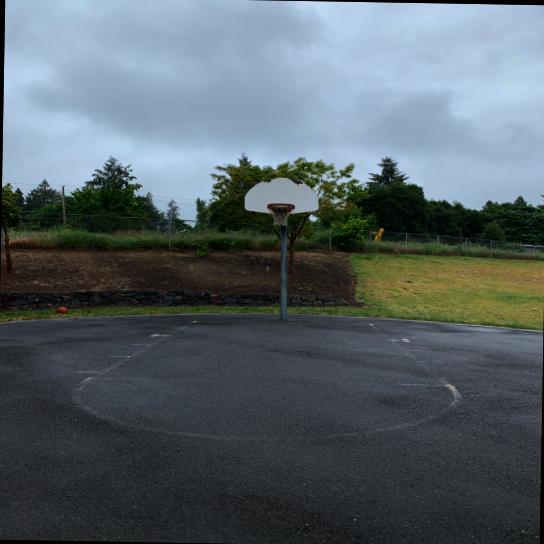basketball-hoop: (266, 202, 296, 226)
